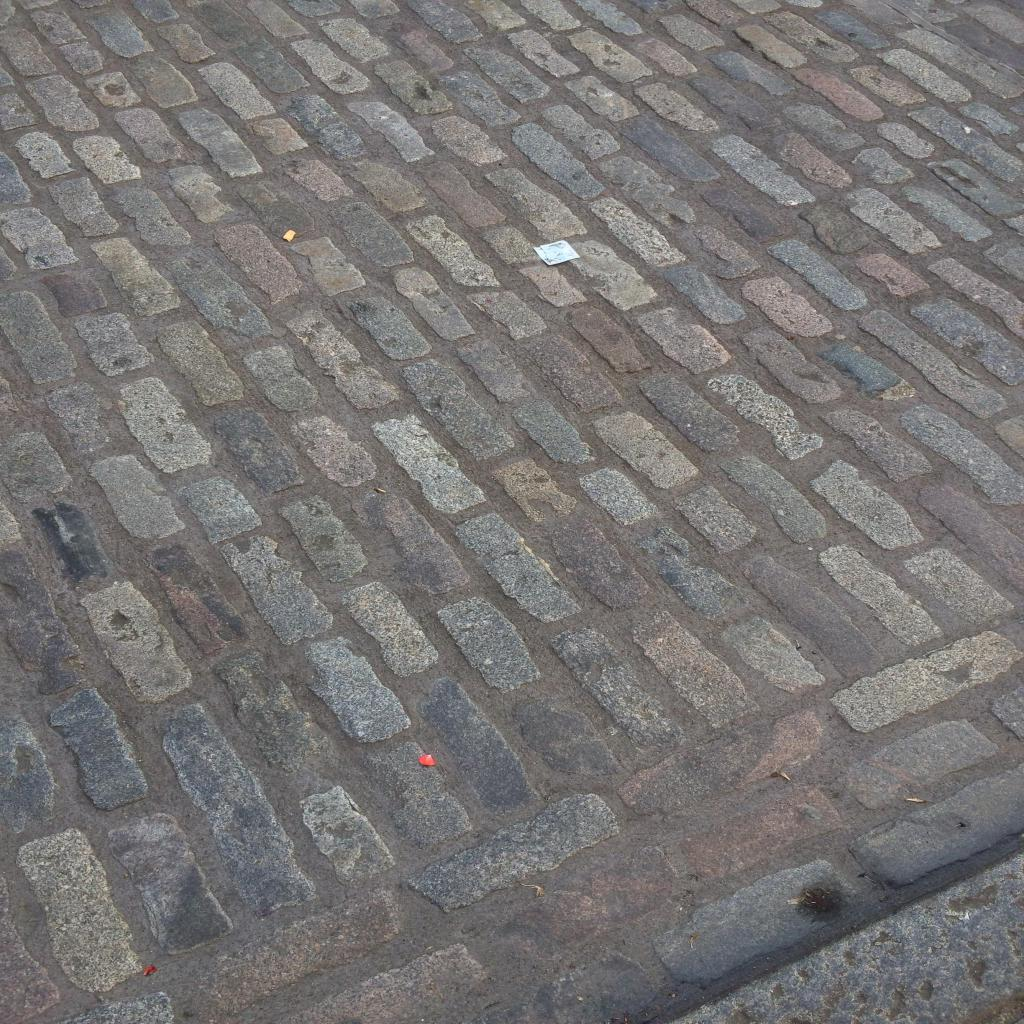Other plastic: (534, 241, 580, 265)
